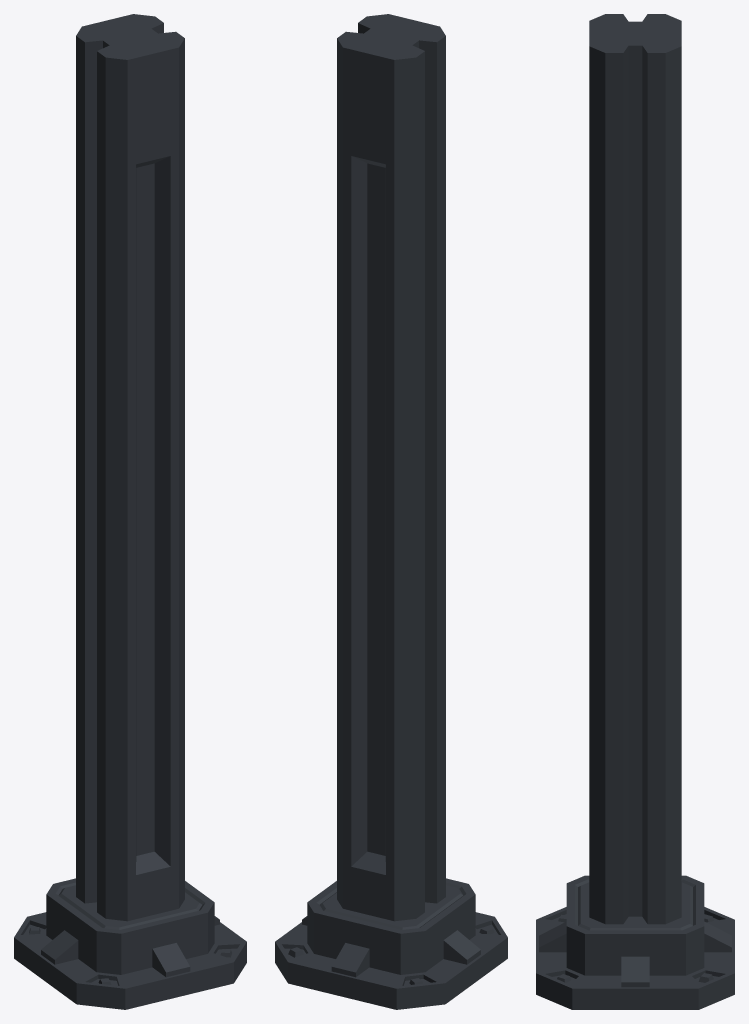
File: SM_Pillar_3.glb
The picture shows the model from 3 angles, left to right: view 1: azimuth 30°, elevation 25°; view 2: azimuth 150°, elevation 25°; view 3: azimuth 270°, elevation 25°; orthographic projection.
Visible parts, largest first — view 1: SM_Pillar_3; view 2: SM_Pillar_3; view 3: SM_Pillar_3.
Part boxes in pixels (left/top/right/bottom): SM_Pillar_3: left=14, top=14, right=246, bottom=1009; SM_Pillar_3: left=275, top=14, right=507, bottom=1009; SM_Pillar_3: left=536, top=14, right=734, bottom=1009.
Bounding box in the file's own units: 0.772 × 4 × 0.772.
Materials: 1 (1 with a texture image).
